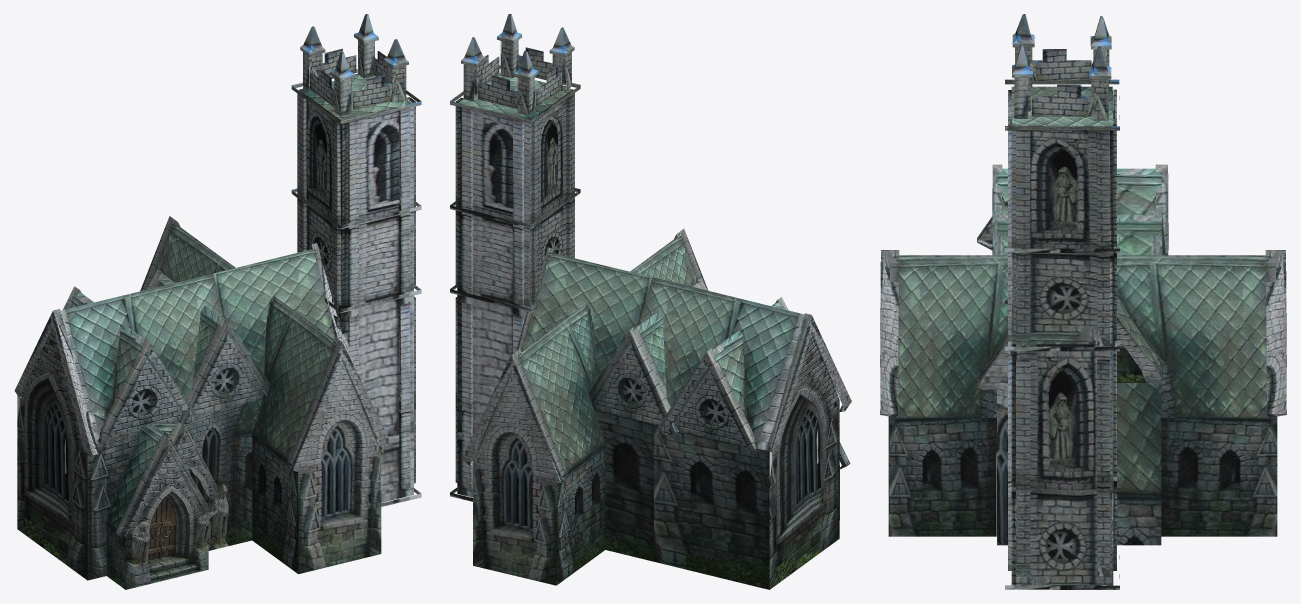
The model's file is church.glb.
The picture shows the model from 3 angles, left to right: view 1: azimuth 30°, elevation 25°; view 2: azimuth 150°, elevation 25°; view 3: azimuth 270°, elevation 25°; orthographic projection. The views are drawn at different scales.
Parts seen in each view (by area): view 1: Church; view 2: Church; view 3: Church.
Boxes of the visible parts, bbox=[...] form: Church: bbox=[14, 14, 421, 589]; Church: bbox=[450, 14, 851, 589]; Church: bbox=[880, 14, 1286, 589].
Bounding box in the file's own units: 5.63 × 7.19 × 4.96.
1 material, 1 textured.
